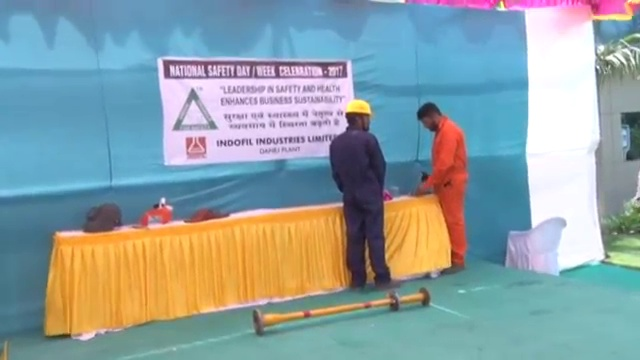helmet: (344, 98, 375, 117)
helmet_off: (417, 101, 447, 133)
helmet_on: (344, 96, 376, 134)
person: (328, 97, 402, 292), (414, 100, 468, 277)
